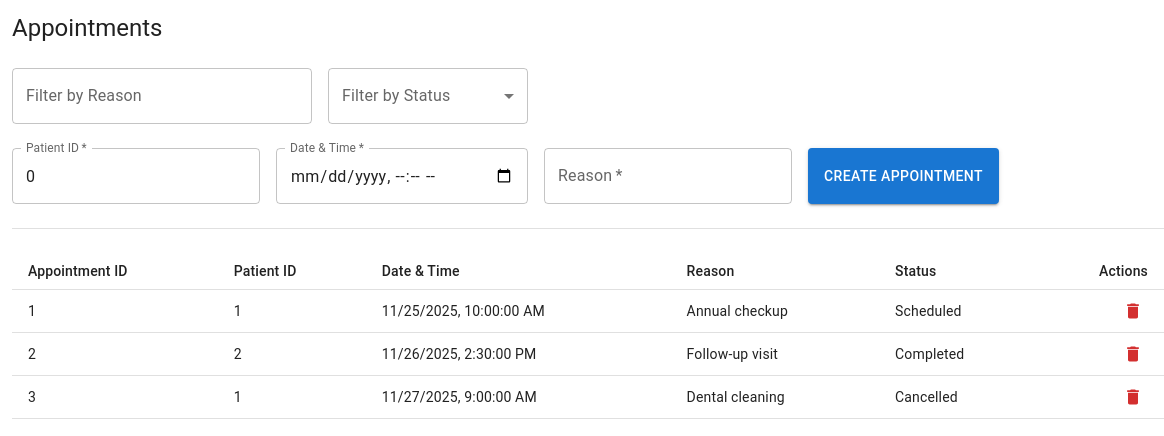
AppointmentsPage › filters appointments by status
Check: the text "Annual checkup" is shown, box [671, 290, 879, 332]
Click the dropdown: (428, 96) [328, 68, 528, 124]
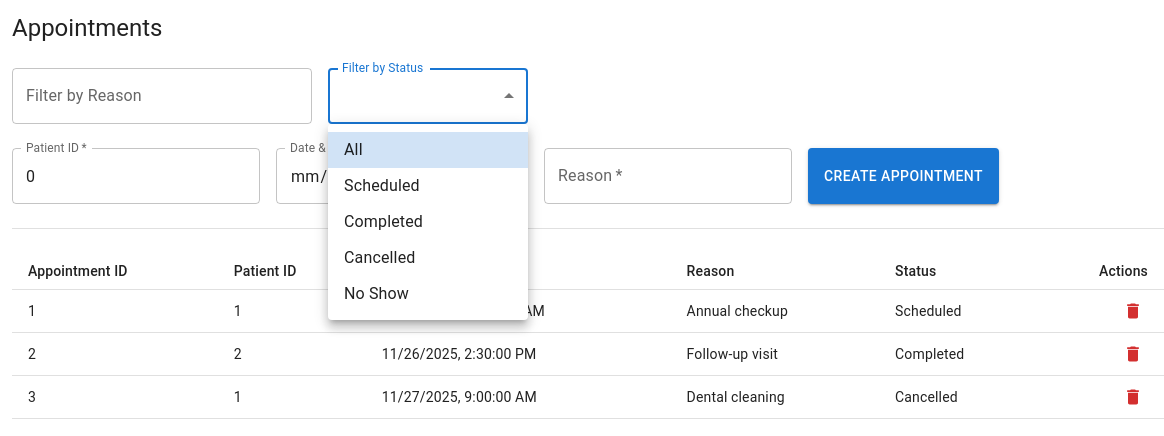
Click the option "Completed": (384, 222) [344, 212, 423, 231]
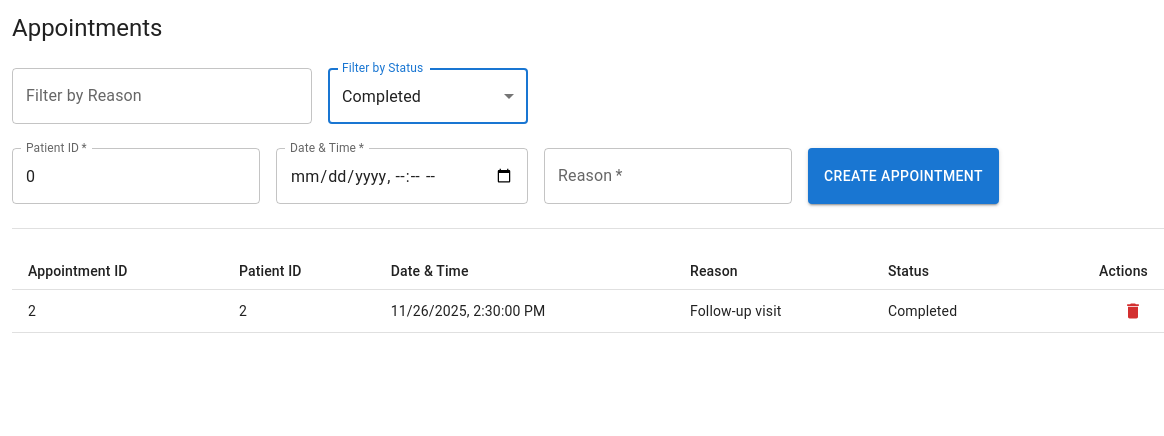
Check: the text "Follow-up visit" is shown, box [674, 290, 872, 332]
Check: the text "Annual checkup" is gone
Check: the text "Dental cleaning" is gone
